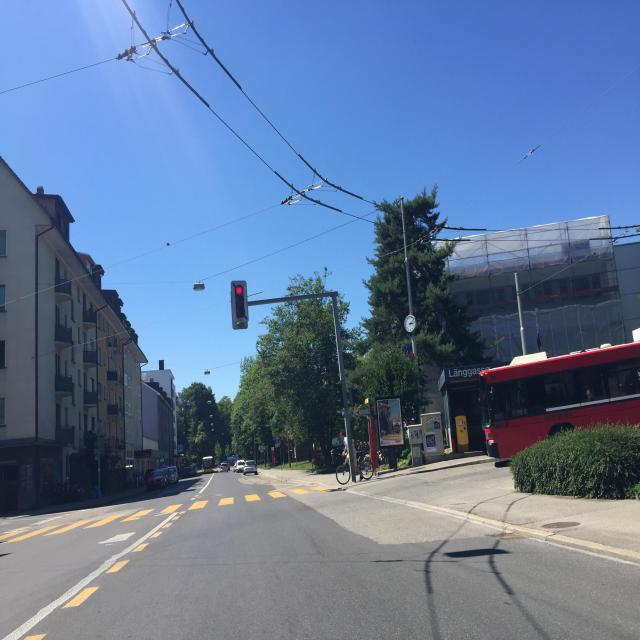Good: (542, 519, 583, 531)
